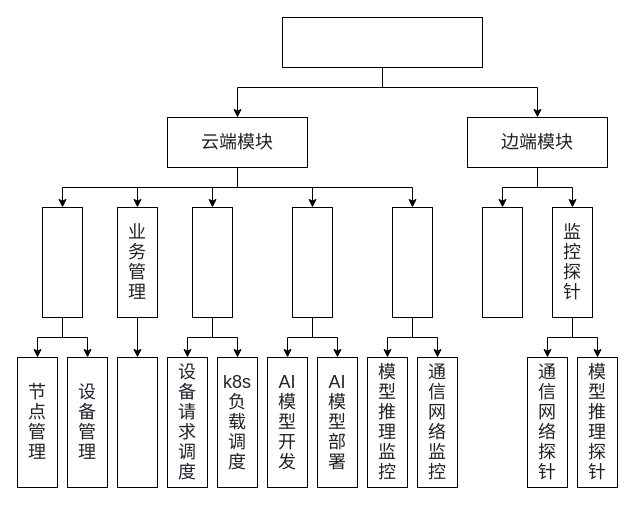
The diagram is 635 pixels wide and 506 high, and some of its shapes have lost their labels. Here are the shapes that lost their labels. From the top down, the box of each, then its label:
(282, 16, 482, 68): 云边协同 AI 推理平台
(42, 206, 82, 318): 资 源 管 理
(192, 206, 232, 318): 任 务 调 度
(292, 206, 332, 318): AI 模 型 管 理
(392, 206, 432, 318): 系 统 监 控
(482, 206, 522, 318): 数 据 转 发
(116, 356, 158, 488): 数 据 业 务 开 发
